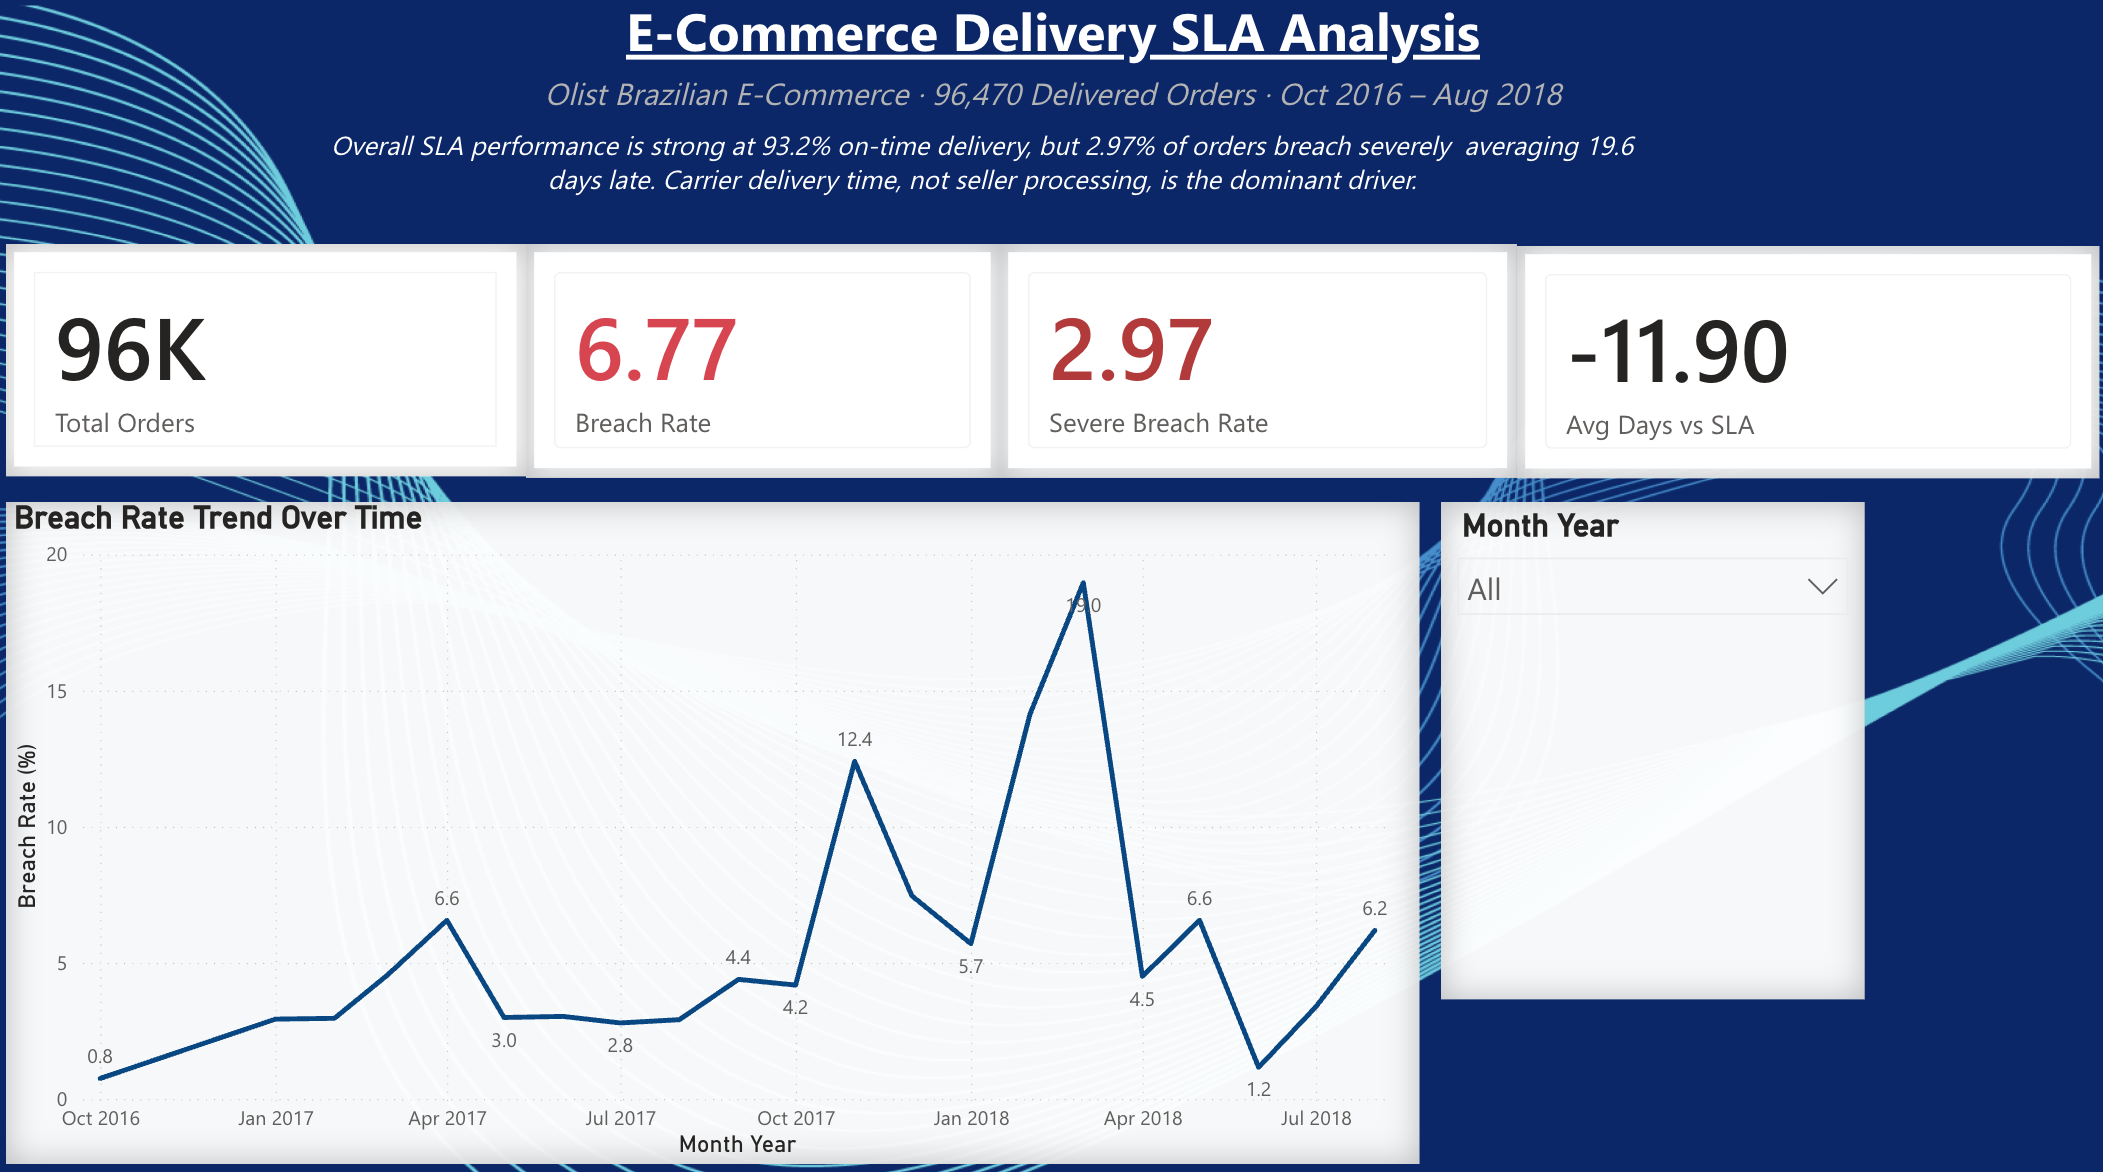

The page's visual inventory and layout, read from the dashboard file:
{"tool":"powerbi","page":{"name":"Overview","canvas":[1280,720],"ordinal":0},"visuals":[{"type":"cardVisual","fields":{"Data":["Sum(kpi_summary.total_orders)"]},"box":[0,0,318.4,305.8],"z":0},{"type":"cardVisual","fields":{"Data":["Avg(kpi_summary.breach_rate_pct)"]},"box":[324.7,0,309.4,305.8],"z":1},{"type":"cardVisual","fields":{"Data":["Sum(kpi_summary.severe_breach_pct)"]},"box":[640.4,0,311.2,305.8],"z":2},{"type":"cardVisual","fields":{"Data":["Sum(kpi_summary.avg_days_vs_sla)"]},"box":[958,0,314.8,305.8],"z":3},{"type":"lineChart","title":"Breach Rate Trend Over Time","fields":{"Y":["Avg(monthly_trend.breach_rate_pct)"],"Category":["monthly_trend.year_month"]},"box":[0,315.2,796.1,404.6],"z":4},{"type":"slicer","fields":{"Values":["monthly_trend.year_month"]},"box":[863.5,314.8,324.7,394.9],"z":5}]}

Visuals, with their boxes in screenshot pixels (x1, y1, x2, y2), scaled from the page's 1280x720 canvas onto the 2103x1172 screenshot:
cardVisual - Sum(kpi_summary.total_orders): x1=0 y1=0 x2=523 y2=498
cardVisual - Avg(kpi_summary.breach_rate_pct): x1=533 y1=0 x2=1042 y2=498
cardVisual - Sum(kpi_summary.severe_breach_pct): x1=1052 y1=0 x2=1563 y2=498
cardVisual - Sum(kpi_summary.avg_days_vs_sla): x1=1574 y1=0 x2=2091 y2=498
"Breach Rate Trend Over Time" lineChart: x1=0 y1=513 x2=1308 y2=1171
slicer - monthly_trend.year_month: x1=1419 y1=512 x2=1952 y2=1155
